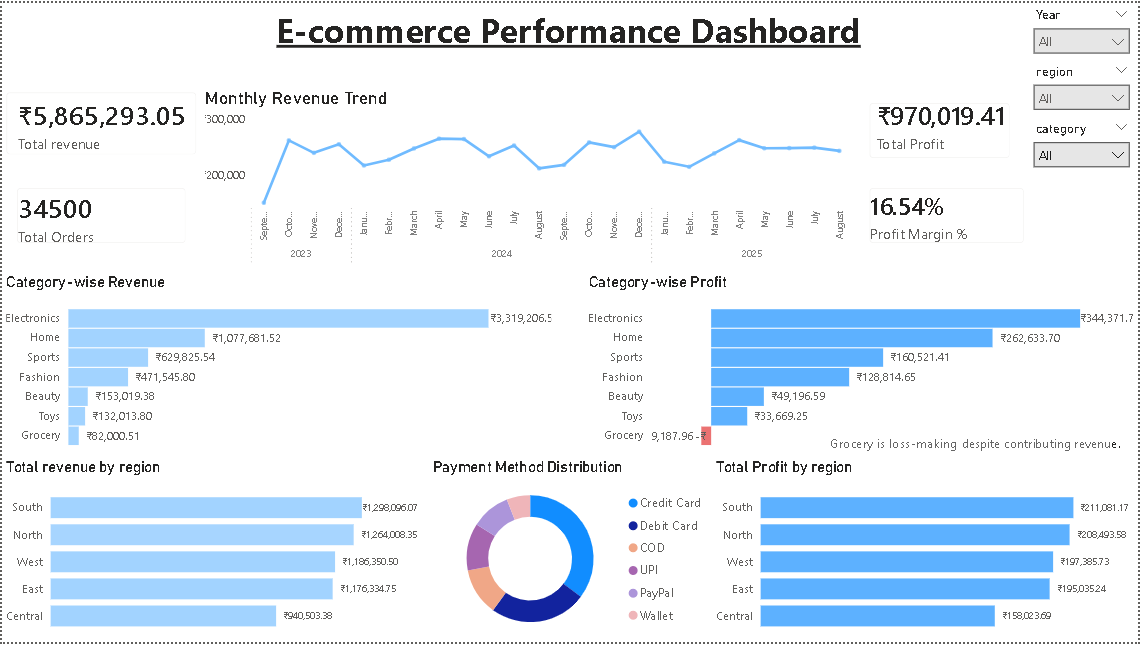

Layout of this report page (visuals, bound fields, positions):
{"tool":"powerbi","page":{"name":"Page 1","canvas":[1280,720],"ordinal":0},"visuals":[{"type":"cardVisual","fields":{"Data":["orders.Total revenue"]},"box":[0,96,224,80],"z":0},{"type":"cardVisual","fields":{"Data":["orders.Total Orders"]},"box":[0,192,224,96],"z":2000},{"type":"cardVisual","fields":{"Data":["orders.Profit Margin %"]},"box":[960,192,208,96],"z":4000},{"type":"lineChart","title":"Monthly Revenue Trend","fields":{"Y":["orders.Total revenue"],"Category":["orders.order_date.Variation.Date Hierarchy.Year","orders.order_date.Variation.Date Hierarchy.Month"]},"box":[224,96,736,208],"z":6000},{"type":"barChart","title":"Category-wise Revenue","fields":{"Category":["orders.category"],"Y":["orders.Total revenue"]},"box":[0,304,624,208],"z":7000},{"type":"barChart","title":"Category-wise Profit","fields":{"Category":["orders.category"],"Y":["orders.Total Profit"]},"box":[656,304,624,208],"z":8000},{"type":"barChart","fields":{"Category":["orders.region"],"Y":["orders.Total revenue"]},"box":[0,512,480,208],"z":9000},{"type":"barChart","fields":{"Category":["orders.region"],"Y":["orders.Total Profit"]},"box":[800,512,480,208],"z":10000},{"type":"donutChart","title":"Payment  Method Distribution","fields":{"Category":["orders.payment_method"],"Y":["orders.Total Orders"]},"box":[480,512,320,208],"z":11000},{"type":"textbox","box":[928,480,352,32],"z":12000},{"type":"slicer","fields":{"Values":["orders.order_date.Variation.Date Hierarchy.Year"]},"box":[1152,0,128,64],"z":13000},{"type":"slicer","fields":{"Values":["orders.category"]},"box":[1152,128,128,64],"z":14000},{"type":"slicer","fields":{"Values":["orders.region"]},"box":[1152,64,128,64],"z":15000},{"type":"cardVisual","fields":{"Data":["orders.Total Profit"]},"box":[960,96,192,96],"z":15001},{"type":"textbox","box":[304,0,672,64],"z":15002}]}

Visuals, with their boxes in screenshot pixels (x1, y1, x2, y2), scaled from the page's 1280x720 canvas onto the 1142x645 screenshot:
cardVisual - orders.Total revenue: region(0, 86, 200, 158)
cardVisual - orders.Total Orders: region(0, 172, 200, 258)
cardVisual - orders.Profit Margin %: region(856, 172, 1042, 258)
"Monthly Revenue Trend" lineChart: region(200, 86, 856, 272)
"Category-wise Revenue" barChart: region(0, 272, 557, 459)
"Category-wise Profit" barChart: region(585, 272, 1141, 459)
barChart - orders.region x orders.Total revenue: region(0, 459, 428, 644)
barChart - orders.region x orders.Total Profit: region(714, 459, 1141, 644)
"Payment  Method Distribution" donutChart: region(428, 459, 714, 644)
textbox: region(828, 430, 1141, 459)
slicer - orders.order_date.Variation.Date Hierarchy.Year: region(1028, 0, 1141, 57)
slicer - orders.category: region(1028, 115, 1141, 172)
slicer - orders.region: region(1028, 57, 1141, 115)
cardVisual - orders.Total Profit: region(856, 86, 1028, 172)
textbox: region(271, 0, 871, 57)
